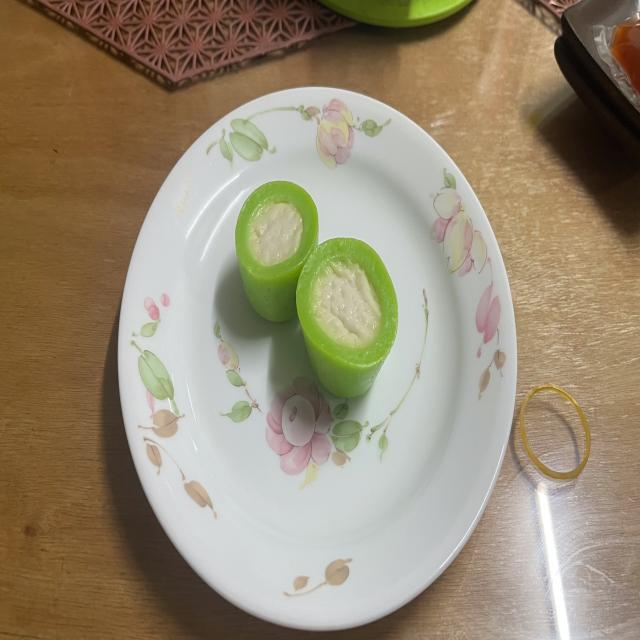nona-manis: (296, 238, 398, 398), (235, 182, 319, 322)
